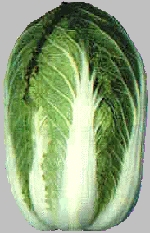cabbage: (2, 2, 148, 231)
